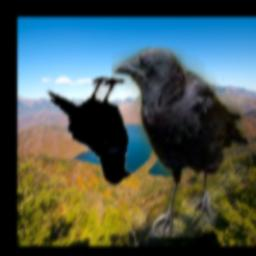Crow: (113, 47, 248, 237), (45, 76, 134, 185)
